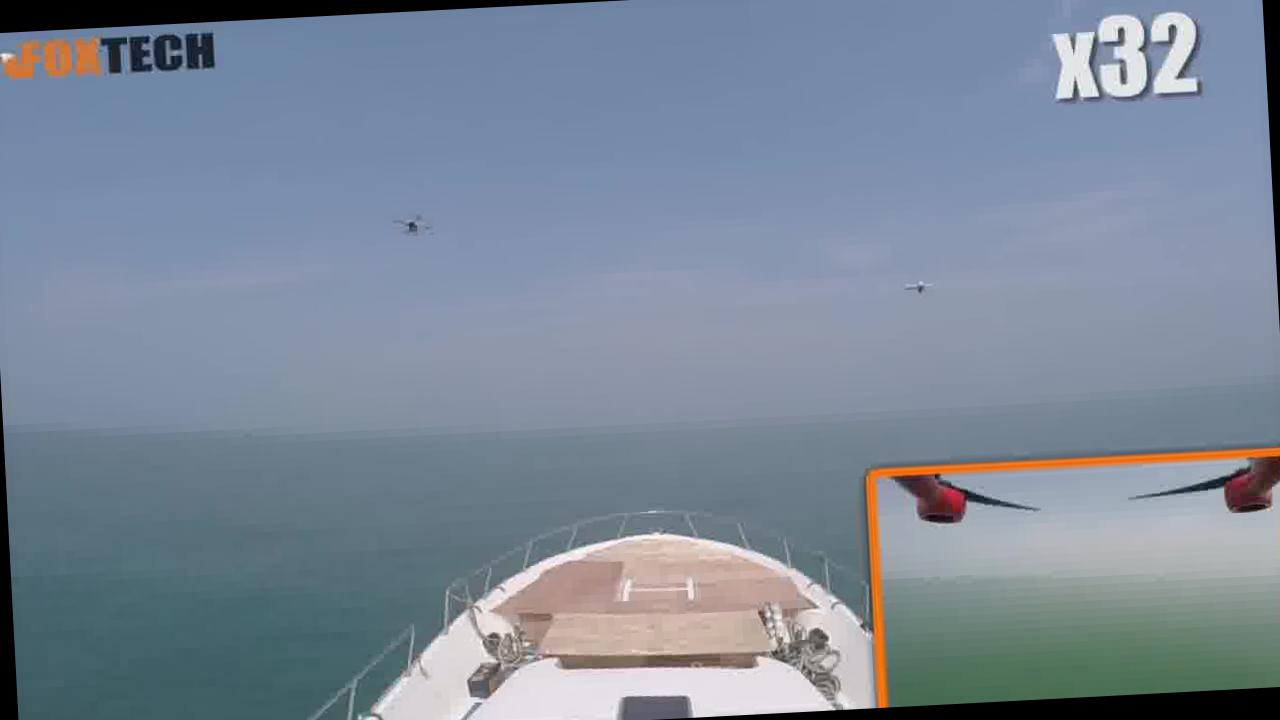drone: (382, 198, 439, 244), (889, 263, 946, 302)
